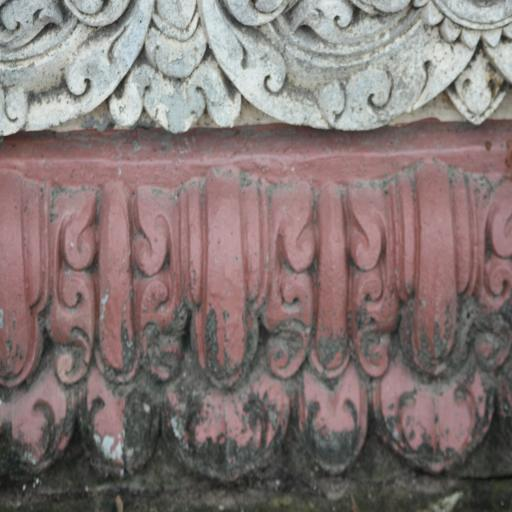la: (134, 181, 320, 476), (350, 174, 512, 482), (264, 182, 394, 476), (53, 184, 182, 476), (0, 173, 100, 472)
